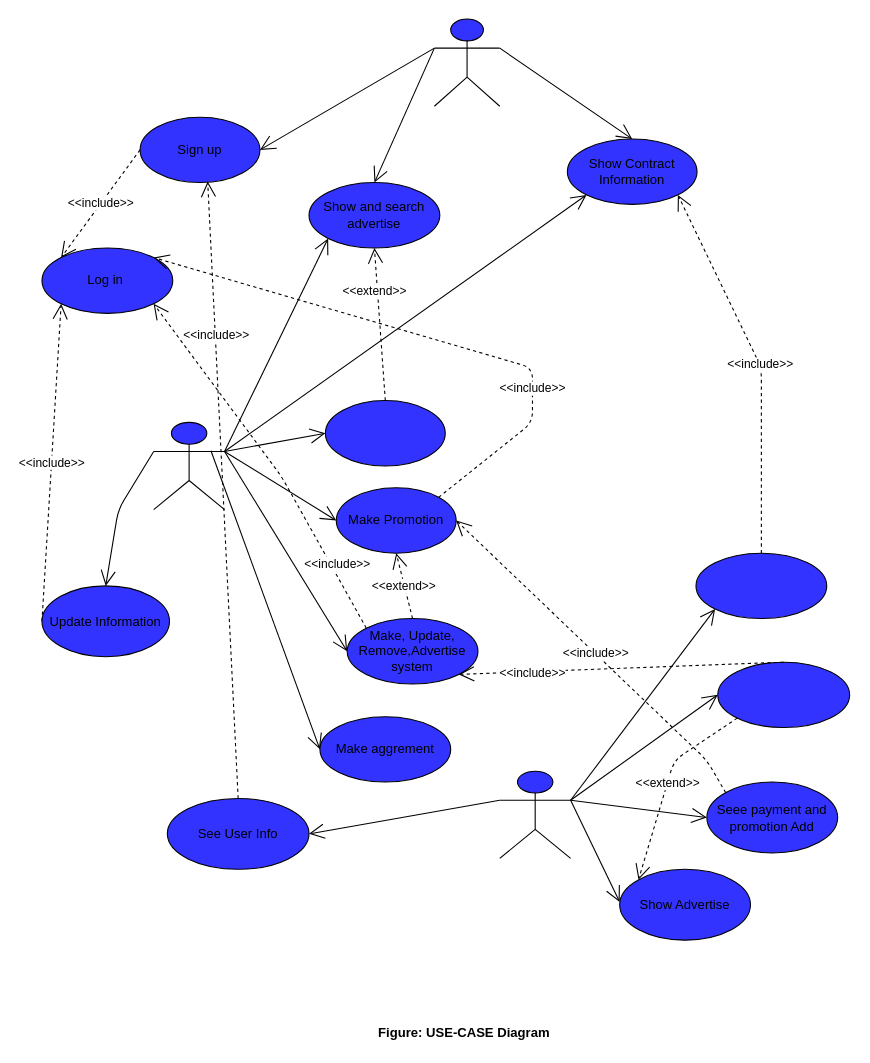
The diagram is 870 pixels wide and 1063 high, and some of its shapes have lost their labels. The centre of each missing label's shape, as x and y in pixels:
"Admin" goes at (x=535, y=814).
"Approve advertise" goes at (x=783, y=694).
"Make and Update Contract system" goes at (x=761, y=585).
"Make Payment" goes at (x=384, y=432).
"User" goes at (x=189, y=465).
"Visitor" goes at (x=466, y=62).
